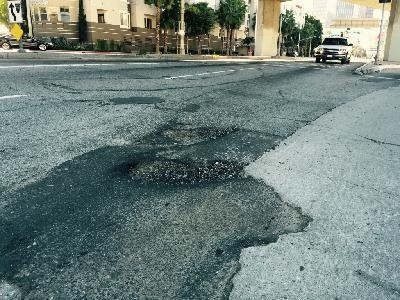pothole: (123, 154, 251, 189), (157, 122, 242, 145)
